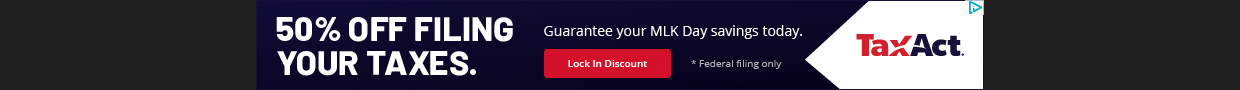fake_button: (536, 42, 680, 87)
